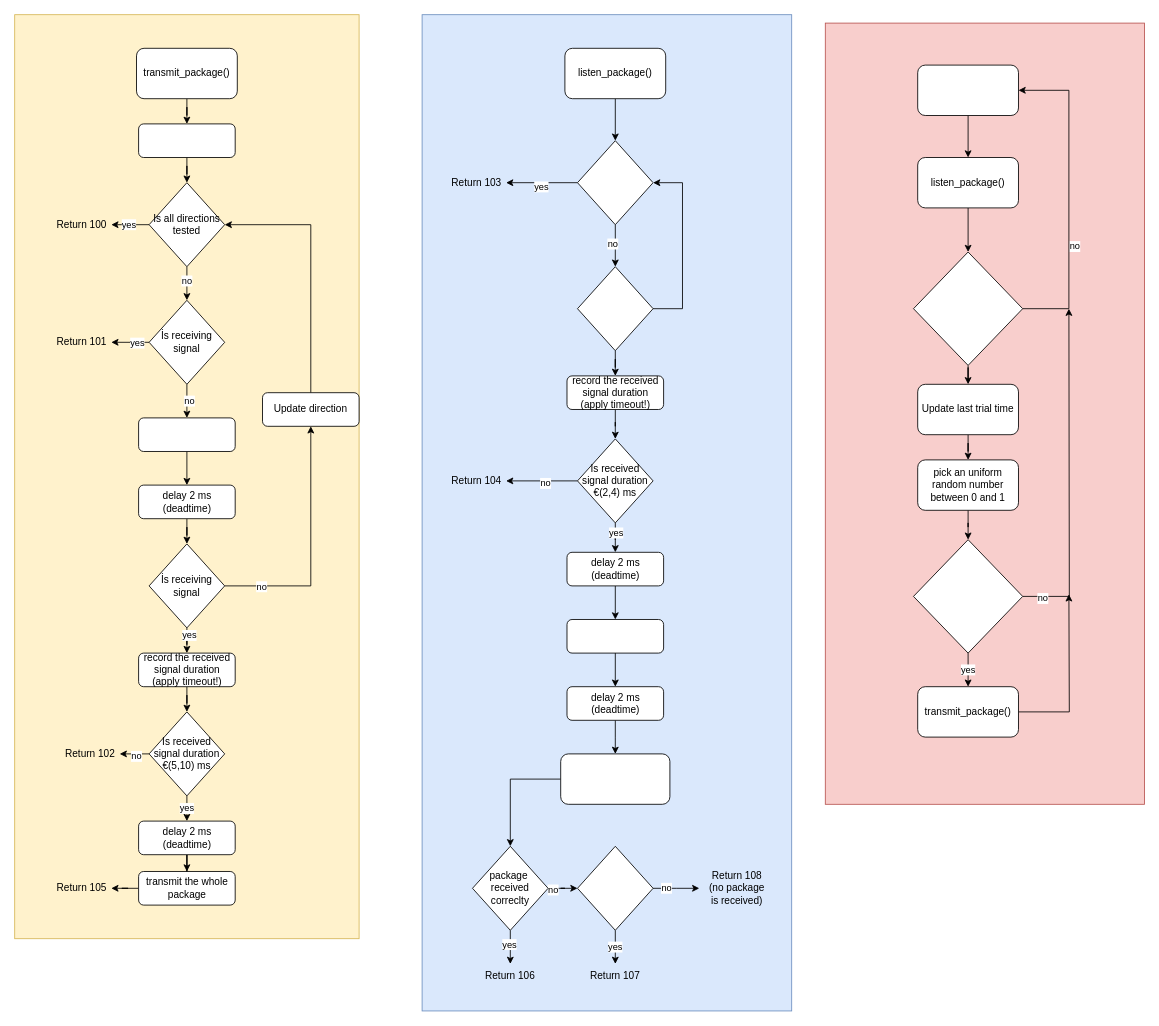
Image size: 1159x1026. Some labels were removed from this diagram. Each missing label, with the centre of its shape:
"Decision unit code that is executed fast" belongs at (967,90).
"is enough time passed since last transmit trial" belongs at (968,308).
"Is random number less than epsilon" belongs at (968,596).
"is receiving signal from any direction" belongs at (615,308).
"is timeout reached" belongs at (615,182).
"listen for the whole package (apply timeout!)" belongs at (615,778).
"Package is received but corrupted" belongs at (615,887).
"set tinitial direction (randomly)" belongs at (186,140).
"Transmit 3ms ping" belongs at (186,434).
"Transmit 7.5ms ping" belongs at (615,636).
